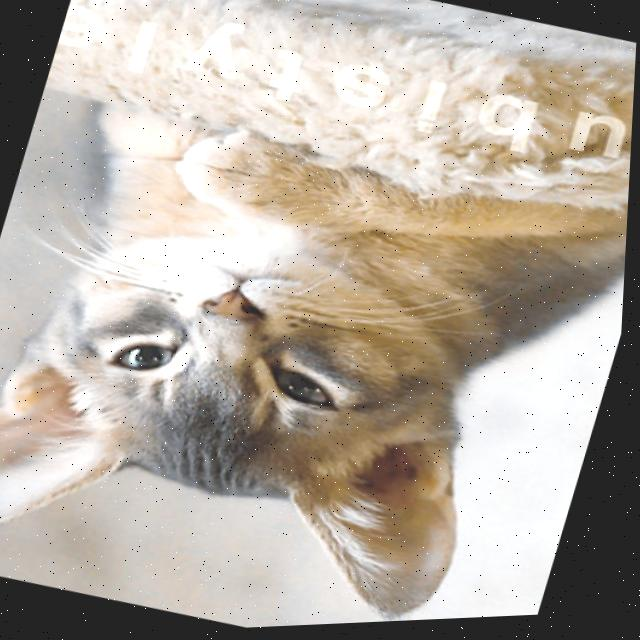Abyssinian: (0, 56, 637, 640)
